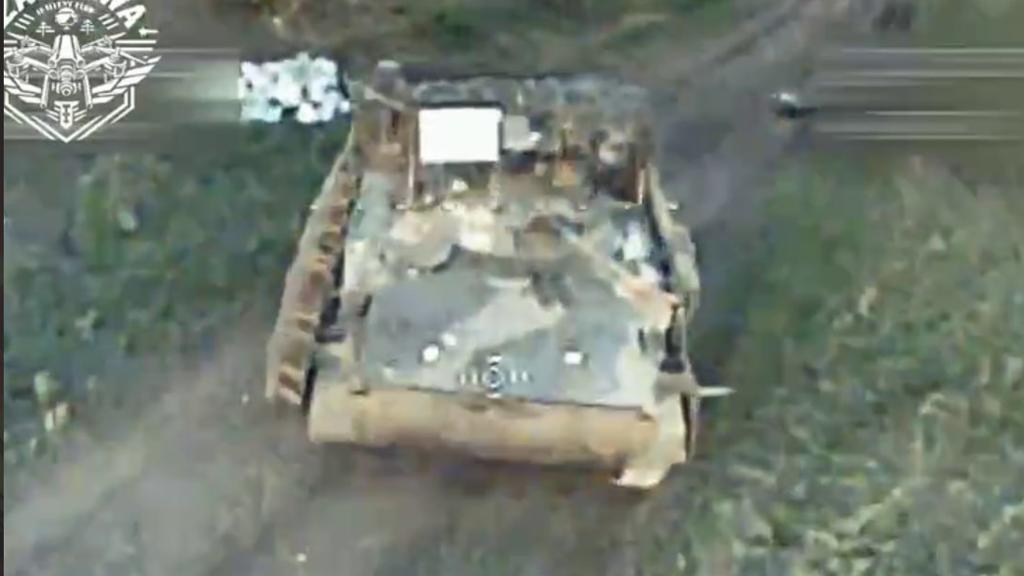APC-IFV: (261, 66, 708, 494)
